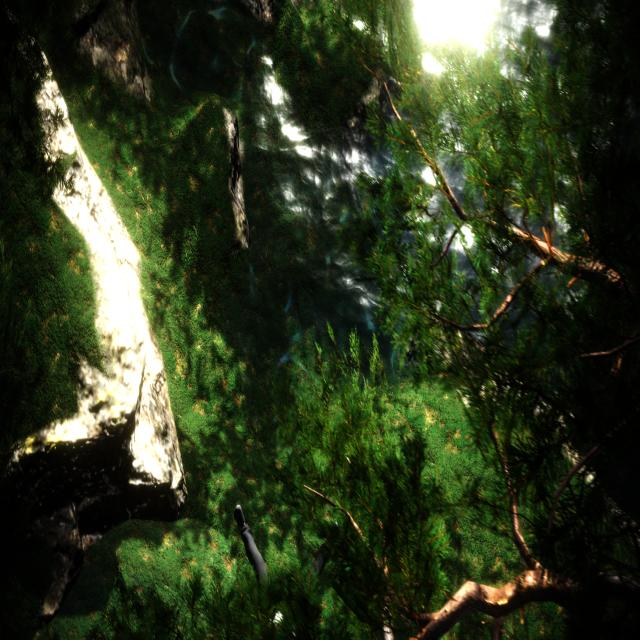Human: (226, 499, 354, 640)
